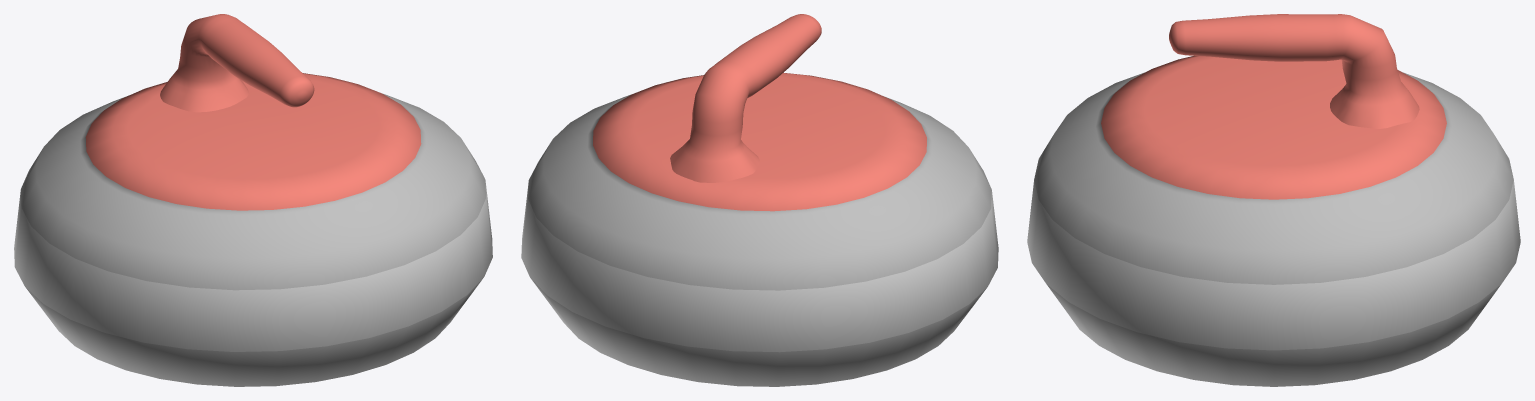
The model's file is red_stone.dae.
3 renders of one model, left to right at view 1: azimuth 30°, elevation 25°; view 2: azimuth 150°, elevation 25°; view 3: azimuth 270°, elevation 25°, orthographic. The views are drawn at different scales.
Visible parts, largest first — view 1: Cylinder; view 2: Cylinder; view 3: Cylinder.
Part boxes in pixels (x1,y1,x2,y2): Cylinder: [14, 14, 492, 386]; Cylinder: [521, 14, 998, 386]; Cylinder: [1027, 14, 1520, 386].
Size of the model in its own units: 0.2812 by 0.2701 by 0.178.
